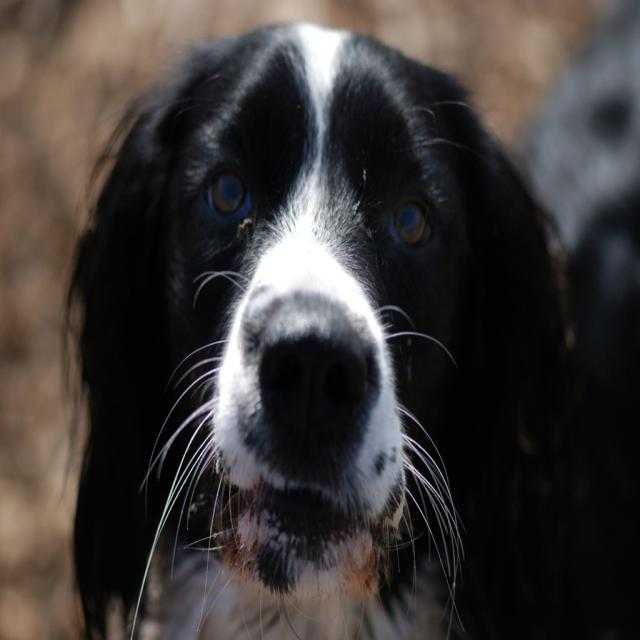Dog: (44, 0, 636, 638)
